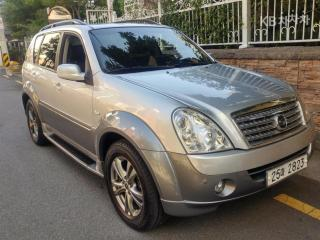2: (287, 163, 292, 174), (272, 170, 276, 182), (297, 158, 301, 170)
3: (300, 158, 305, 168)
5: (276, 169, 281, 181)
8: (292, 161, 297, 172)
plate: (252, 152, 312, 190)
마: (281, 167, 286, 177)
